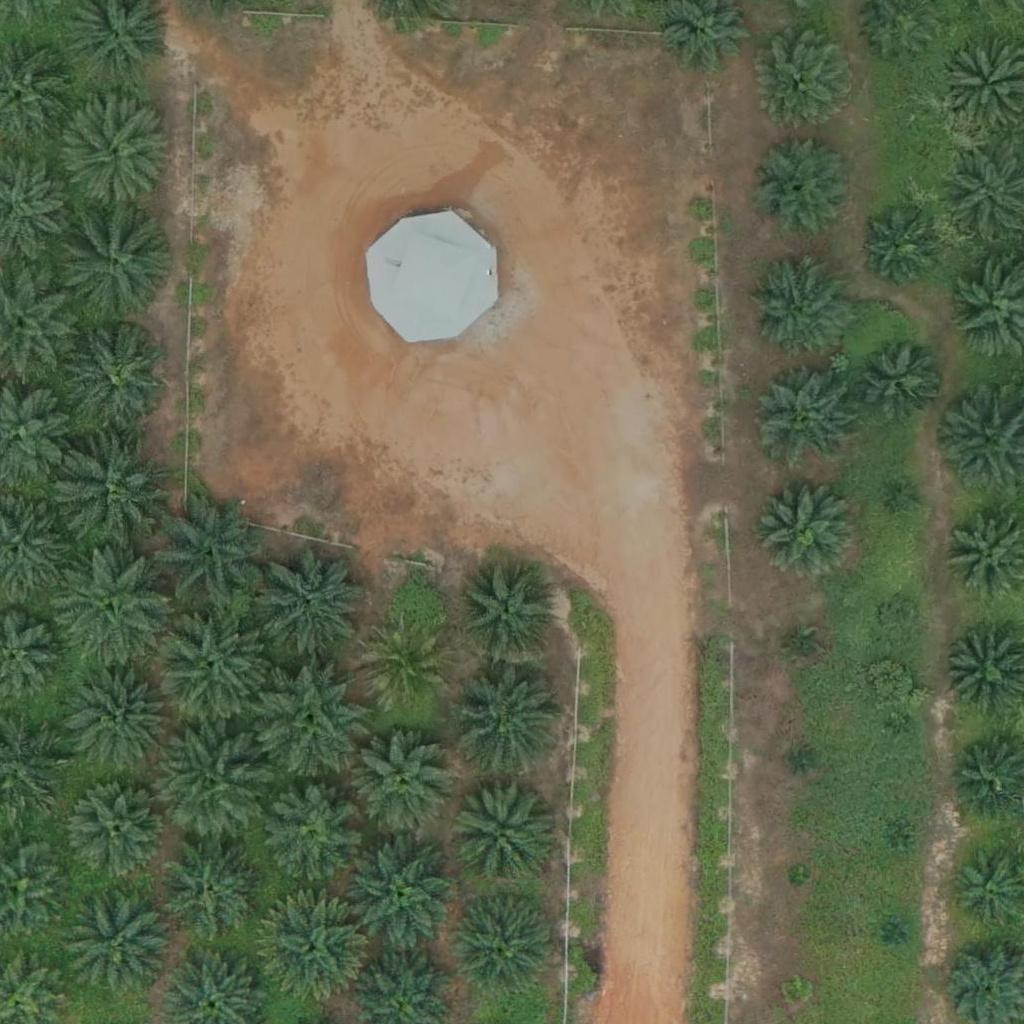Kelapa_Sawit: (258, 547, 371, 661), (256, 663, 369, 777), (156, 498, 269, 612), (62, 98, 175, 211), (57, 210, 170, 323), (345, 836, 458, 949), (156, 604, 268, 718), (59, 437, 171, 551), (258, 897, 370, 1010), (453, 662, 565, 775), (153, 729, 265, 842), (56, 551, 168, 664), (747, 256, 847, 357), (755, 367, 855, 468), (753, 475, 853, 576), (455, 562, 555, 663), (161, 845, 261, 946), (67, 668, 167, 769), (68, 781, 168, 882), (68, 890, 168, 991), (67, 329, 167, 429), (757, 30, 857, 130), (752, 137, 852, 237), (450, 782, 550, 882), (455, 896, 555, 996), (356, 735, 456, 835), (262, 785, 362, 885), (361, 625, 449, 713), (856, 337, 943, 425), (863, 209, 938, 285), (881, 600, 919, 638), (894, 485, 919, 510), (890, 715, 915, 740), (884, 831, 909, 856), (790, 635, 815, 660), (790, 748, 815, 773), (786, 866, 811, 891), (782, 978, 807, 1003), (885, 920, 910, 945)
